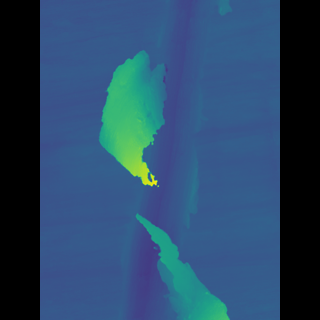Loch: (109, 0, 213, 320), (134, 205, 212, 319), (108, 43, 168, 185)
